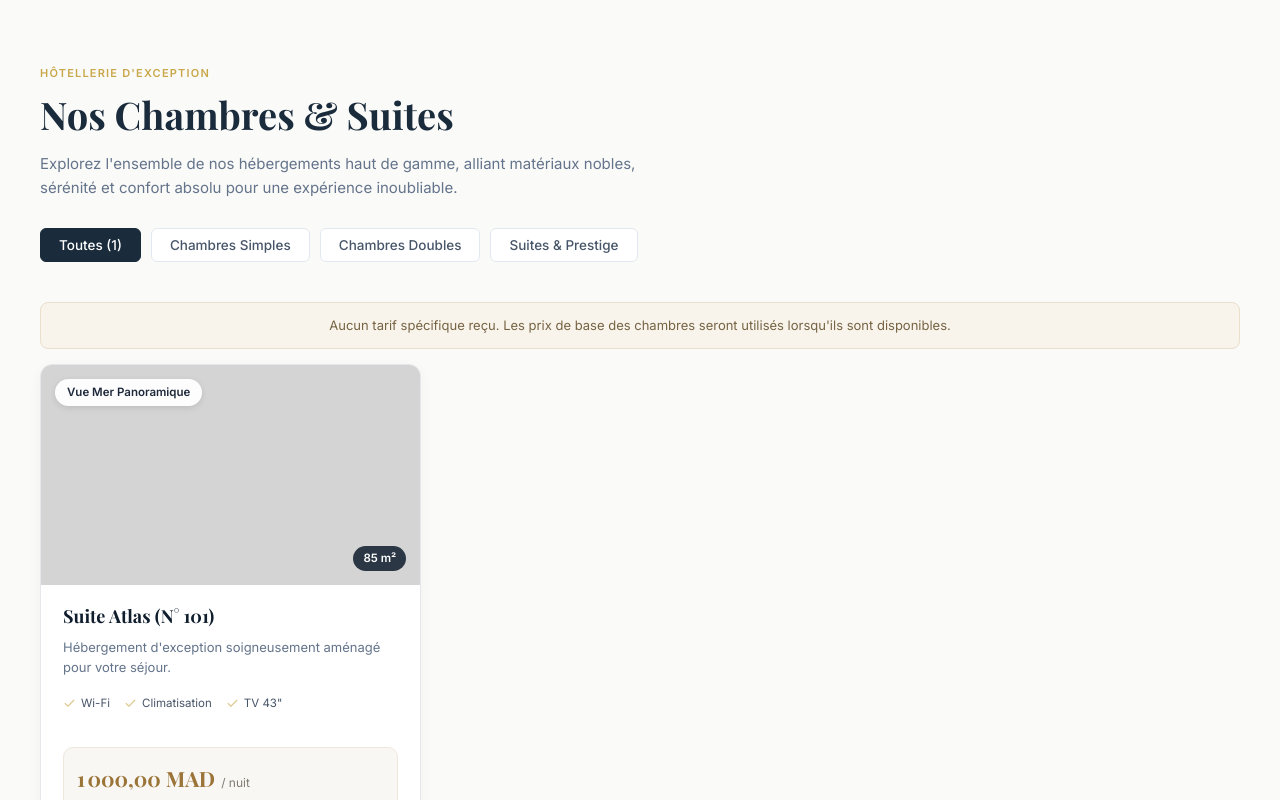
Test: ChambresPage › filtre les types
Expected: the heading "Suite Atlas (N° 101)" is shown, [63, 604, 214, 628]
Click the button "Chambres Simples" at {"x": 230, "y": 245}, box [151, 228, 310, 262]
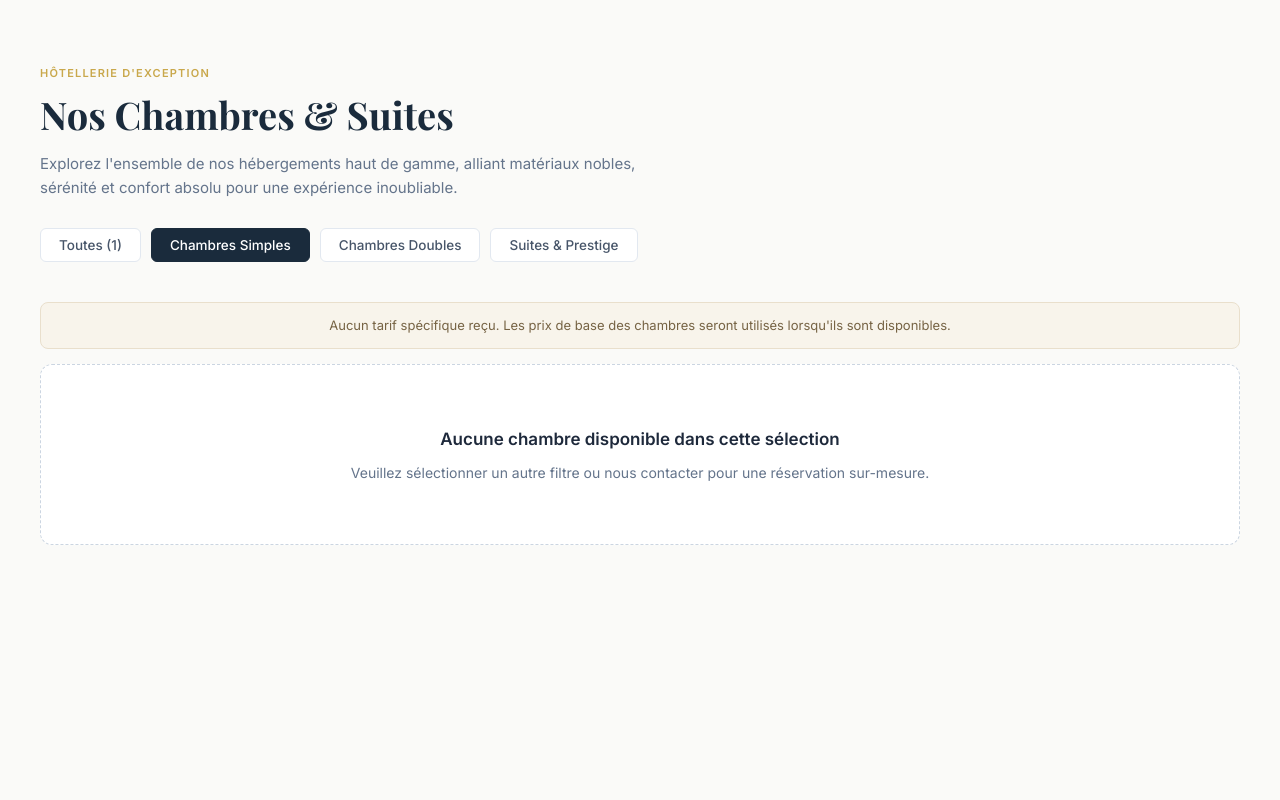
Now the heading "Aucune chambre disponible dans cette sélection" is shown, box [440, 429, 840, 449]
Click the button "Suites & Prestige" at {"x": 564, "y": 245}, box [490, 228, 638, 262]
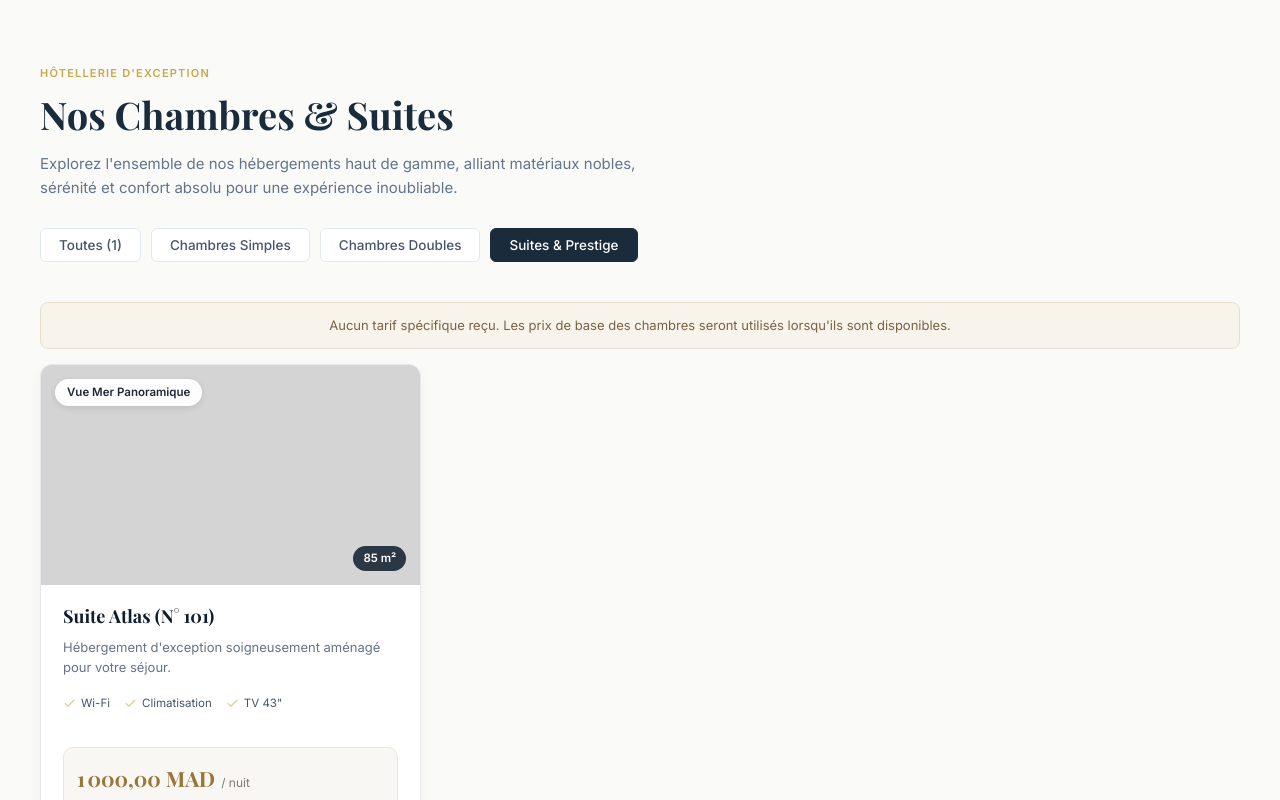
Now the heading "Suite Atlas (N° 101)" is shown, box [63, 604, 214, 628]
